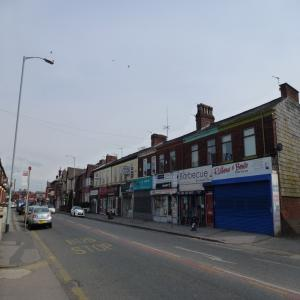Vehicle-registration-plate: (40, 223, 47, 226), (80, 215, 84, 217), (25, 212, 27, 214)
